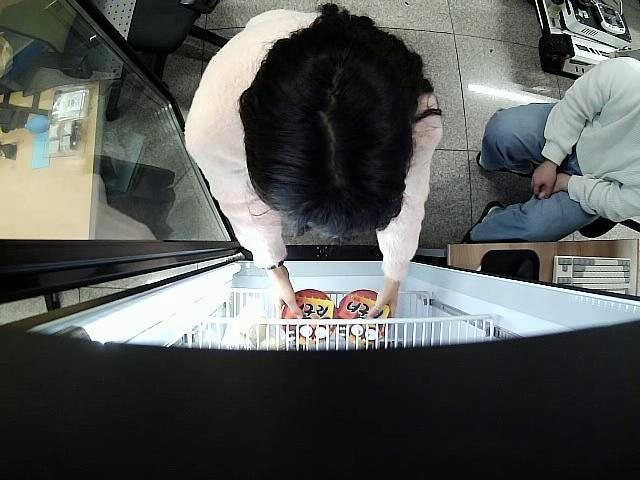05_nuguri_L: (338, 288, 397, 347), (280, 288, 340, 344)
